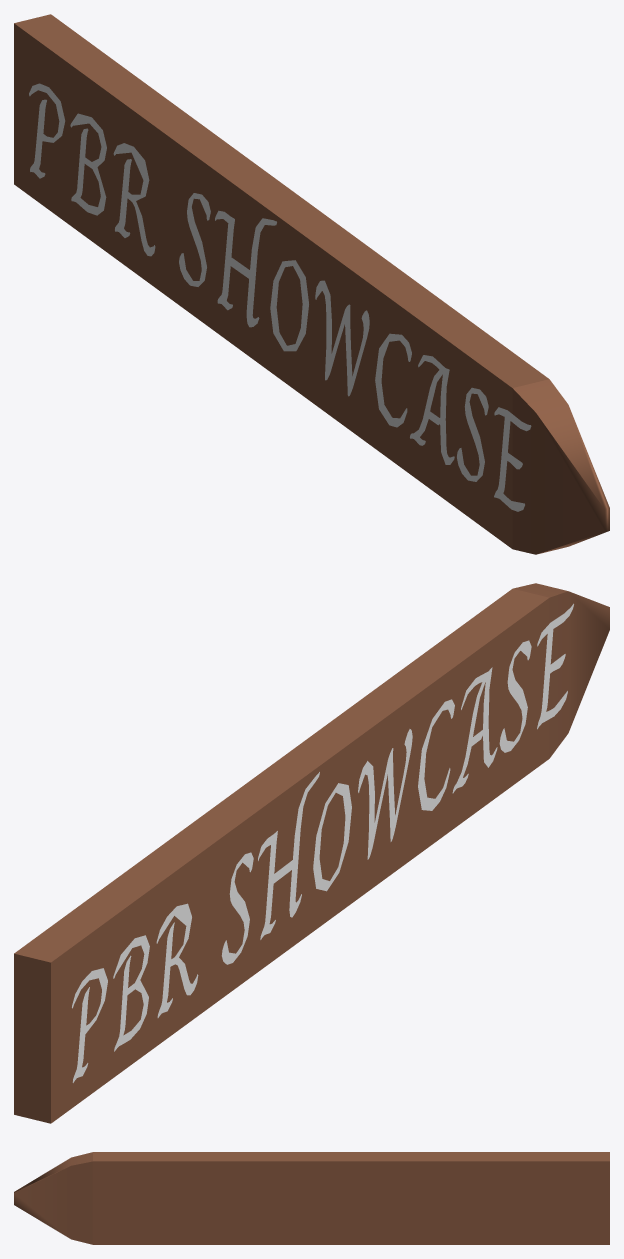
The model's file is PBRSign.glb.
3 views of the same model, one above another, from view 1: azimuth 30°, elevation 25°; view 2: azimuth 150°, elevation 25°; view 3: azimuth 270°, elevation 25° (orthographic). The views are drawn at different scales.
Visible parts, largest first — view 1: Cube.006; view 2: Cube.006; view 3: Cube.006.
Part boxes in pixels (x1=…): Cube.006: x1=14, y1=14, x2=609, y2=554; Cube.006: x1=14, y1=583, x2=609, y2=1123; Cube.006: x1=14, y1=1152, x2=609, y2=1244.
Bounding box in the file's own units: 0.131 × 0.5052 × 3.27.
